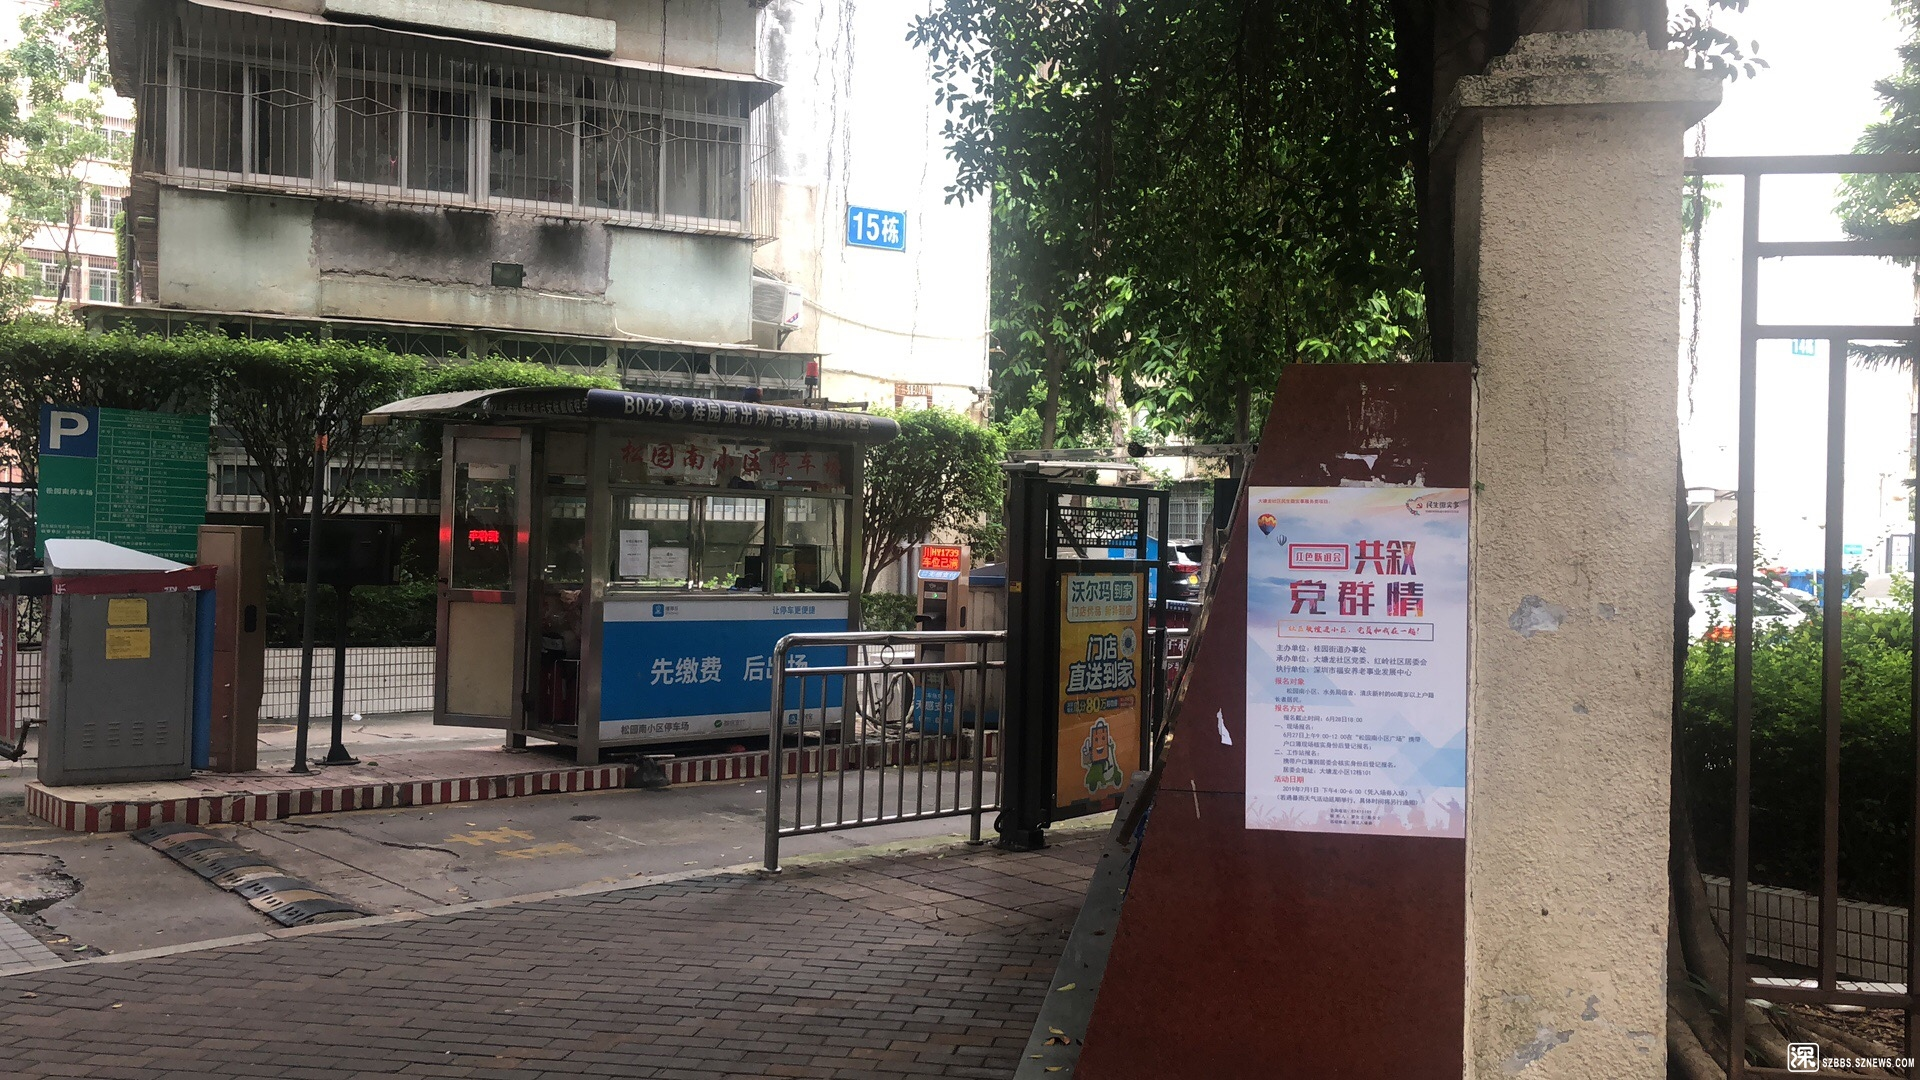bill: (1246, 485, 1473, 843), (603, 596, 851, 753), (40, 400, 208, 560), (1058, 572, 1142, 814)
